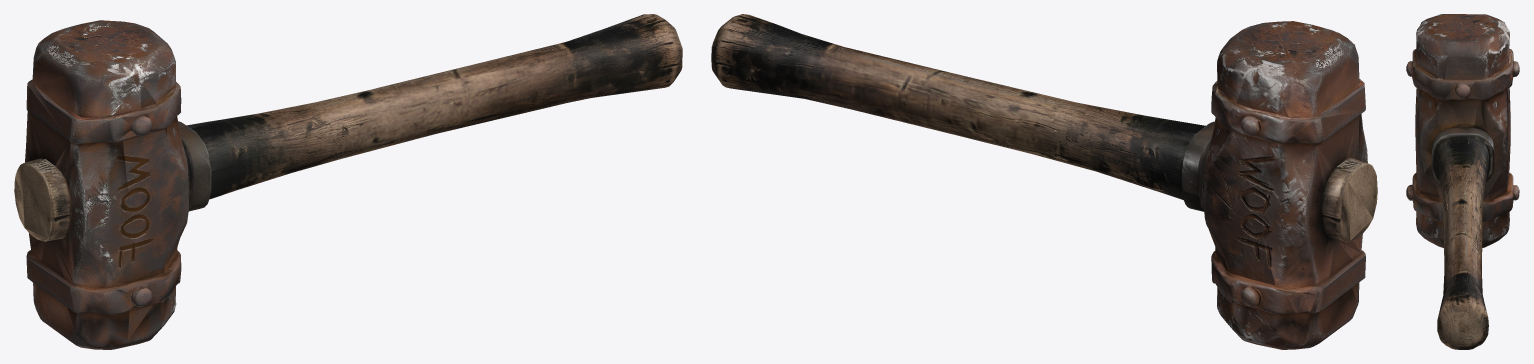
Rendered from MarteauTete.fbx.
3 views of the same model, side by side, from view 1: azimuth 30°, elevation 25°; view 2: azimuth 150°, elevation 25°; view 3: azimuth 270°, elevation 25° (orthographic). The views are drawn at different scales.
Visible parts, largest first — view 1: Mesh_0; view 2: Mesh_0; view 3: Mesh_0.
Boxes of the visible parts, x1,y1,x2,y2 form: Mesh_0: (14, 14, 682, 349); Mesh_0: (711, 14, 1377, 349); Mesh_0: (1406, 14, 1519, 349).
Size of the model in its own units: 190 by 81.84 by 40.55.
Materials: 1 (1 with a texture image).
